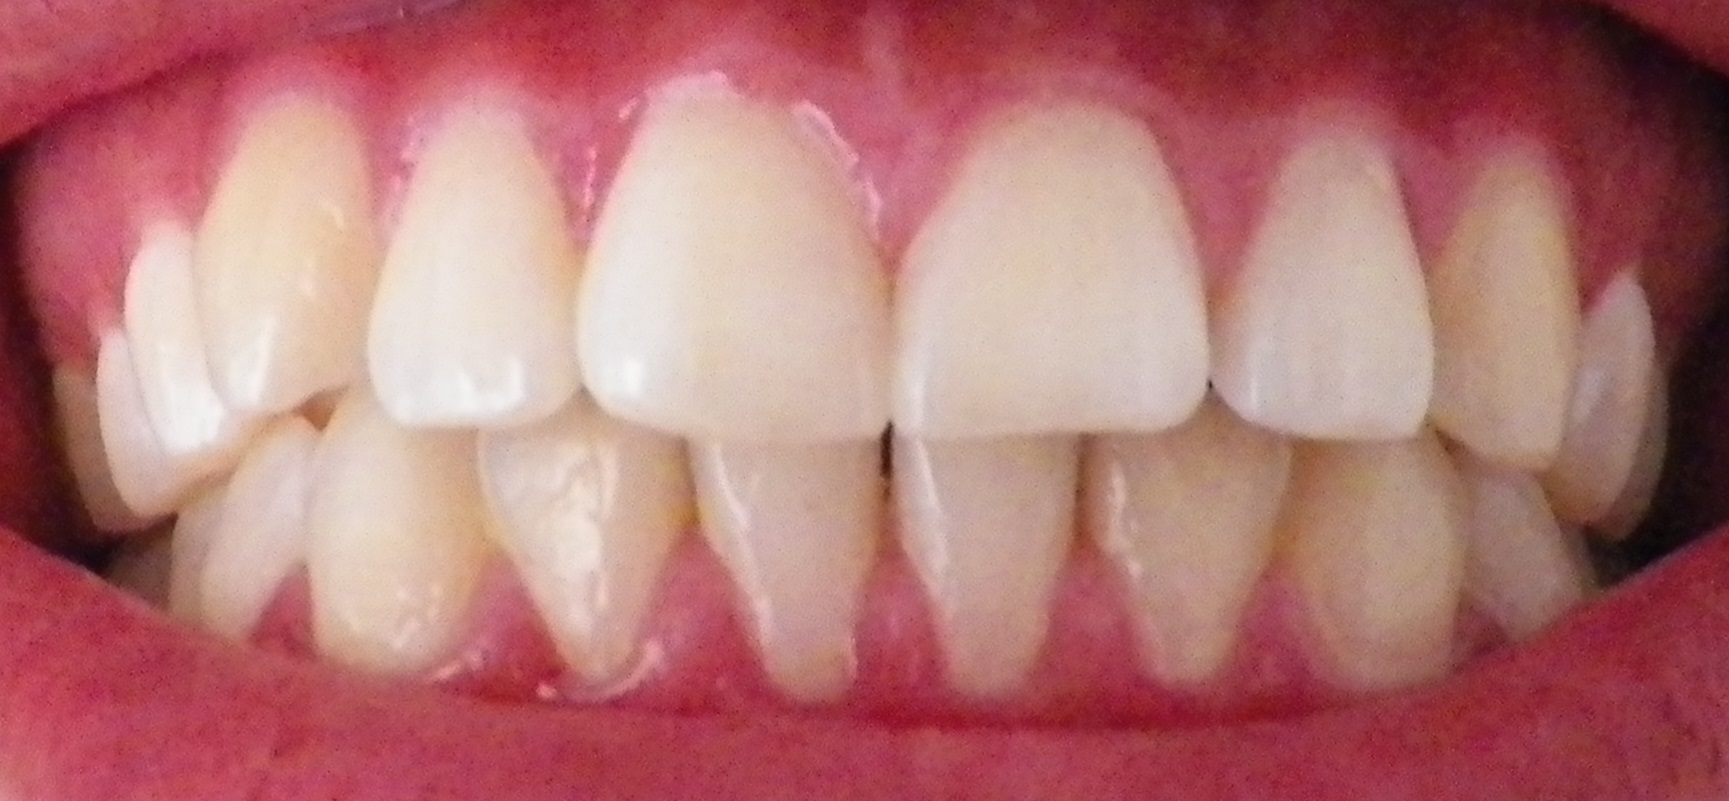boca: (24, 90, 1639, 673)
